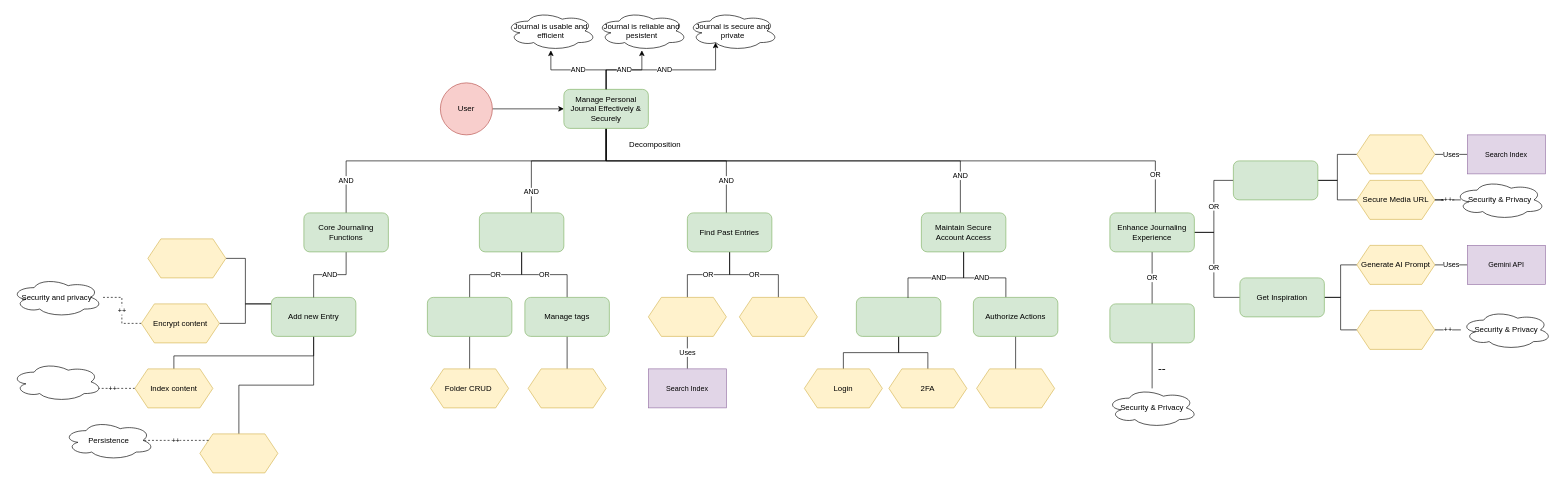
Image size: 1563x484. Some labels were removed from this diagram. Each missing label, with the box of its shape:
Authenticate User: (856, 297, 941, 336)
Control AI Data Access: (1356, 310, 1435, 349)
Filter Entries: (739, 297, 817, 336)
JWT: (976, 368, 1055, 408)
Keyword search: (648, 297, 726, 336)
Manage folders: (427, 297, 512, 336)
Organize Journal Content: (479, 212, 564, 252)
Share Entry: (1109, 303, 1194, 343)
Store Entry: (199, 433, 278, 473)
Tag Assigning/ Filter: (527, 368, 606, 408)
Upload Media: (1356, 134, 1435, 174)
Usability: (11, 362, 102, 401)
Use Media: (1233, 160, 1318, 200)
Validate input: (147, 238, 226, 278)
